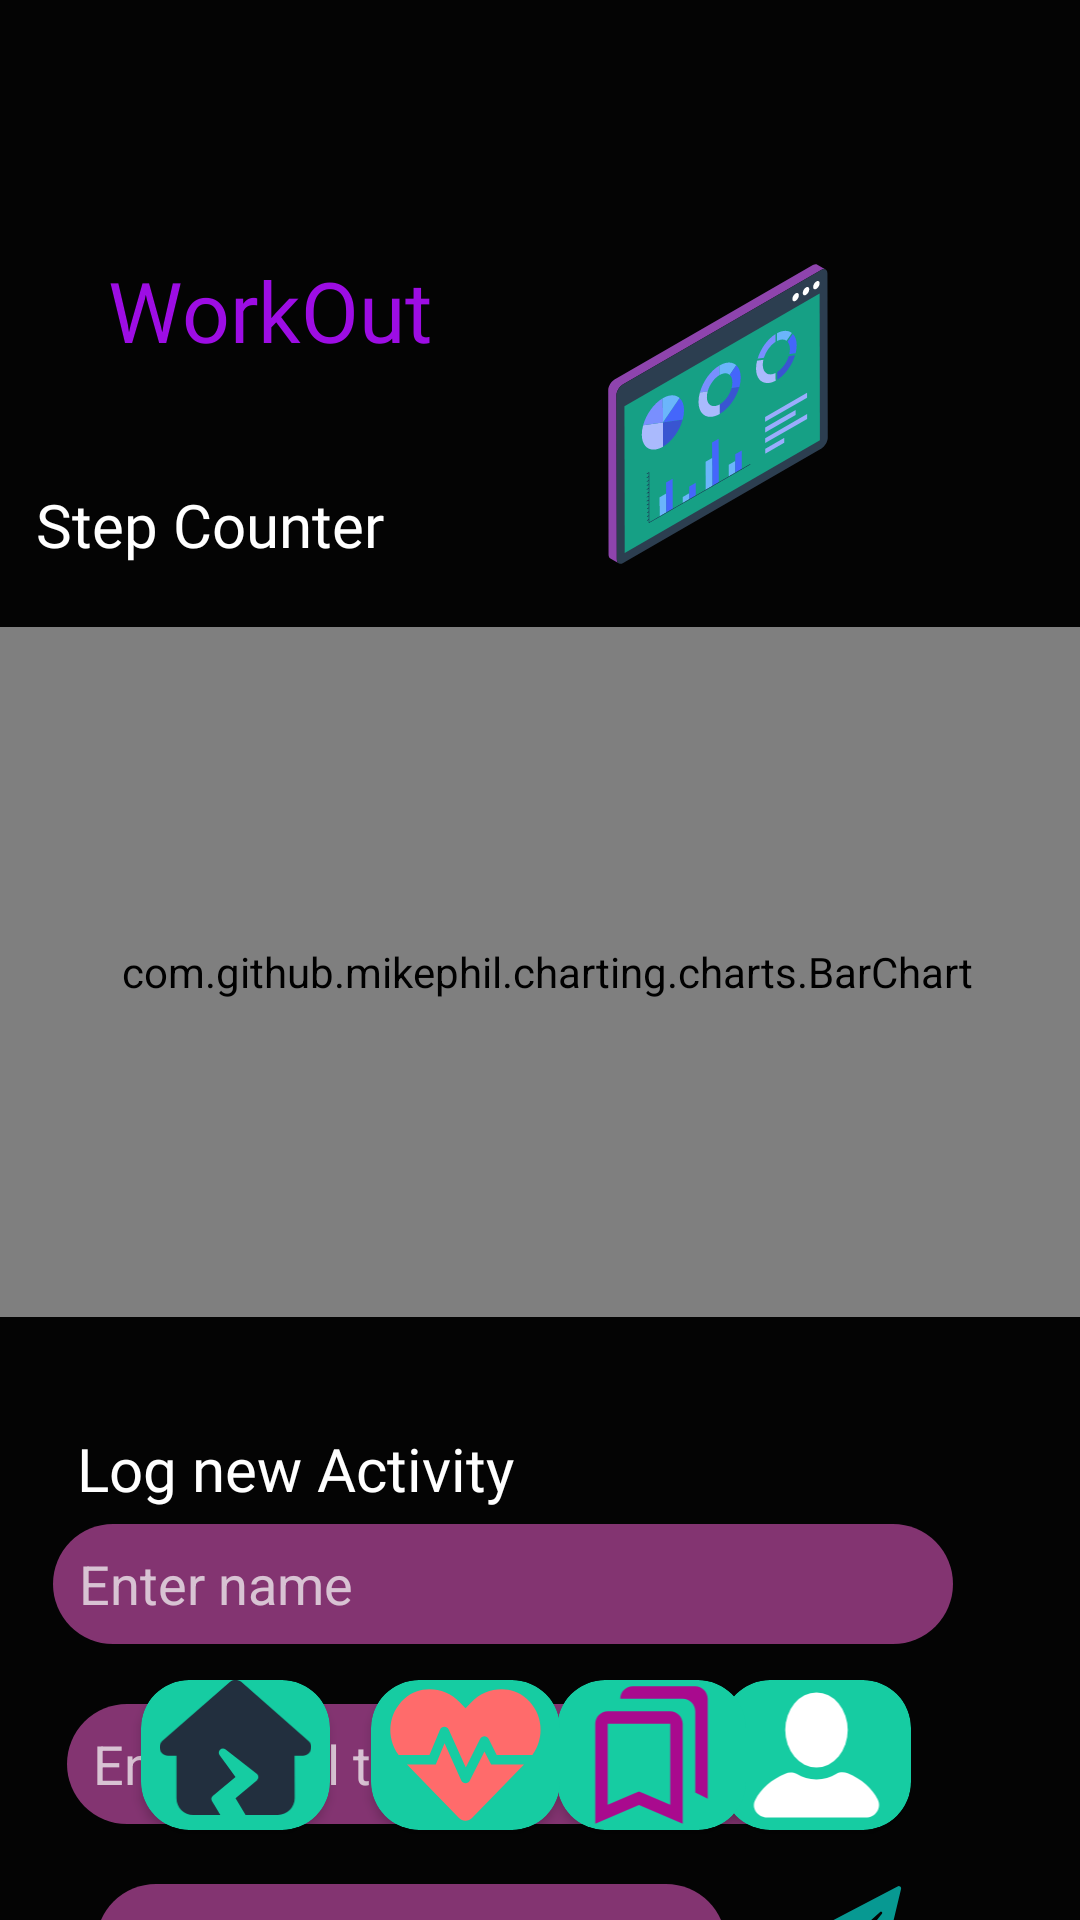

Where to tap for icons on this 1080*1920 app screen, as (x,y):
bookmarks: (651,1755)
graphs: (718,414)
heart: (465,1755)
home: (235,1747)
profile: (816,1755)
